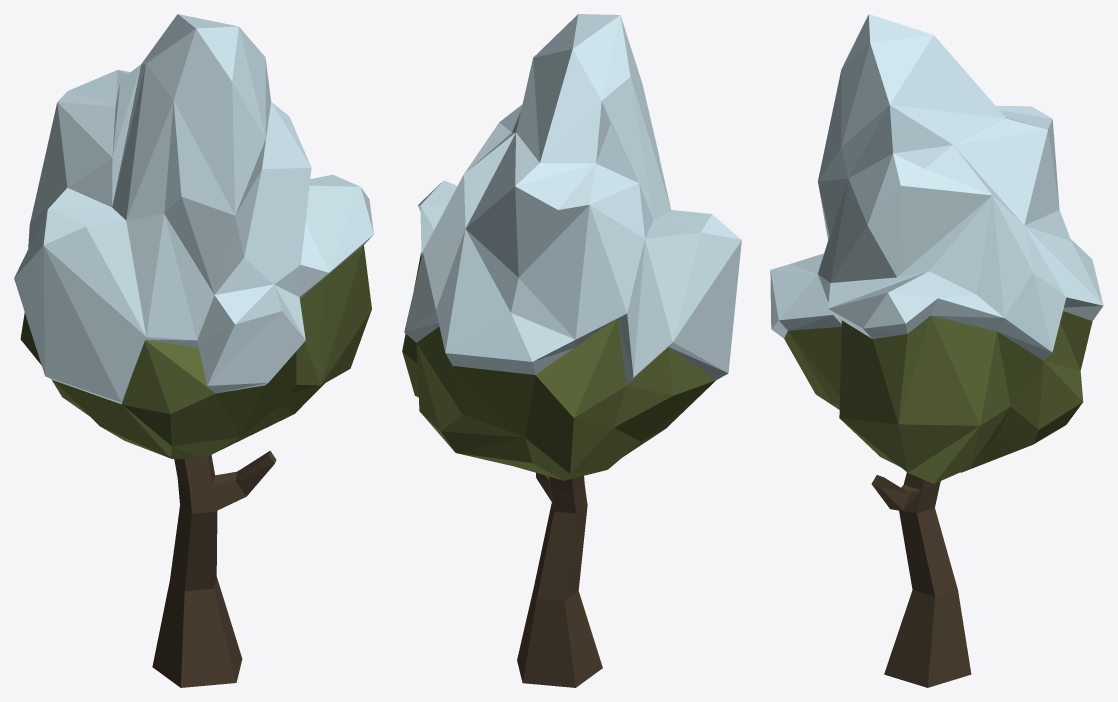
Rendered from SM_Env_Tree_01_Snow.gltf.
The picture shows the model from 3 angles, left to right: view 1: azimuth 30°, elevation 25°; view 2: azimuth 150°, elevation 25°; view 3: azimuth 270°, elevation 25°; orthographic projection. The views are drawn at different scales.
Parts seen in each view (by area): view 1: SM_Env_Tree_01_Snow; view 2: SM_Env_Tree_01_Snow; view 3: SM_Env_Tree_01_Snow.
Boxes of the visible parts, x1=… form: SM_Env_Tree_01_Snow: x1=14, y1=14, x2=373, y2=687; SM_Env_Tree_01_Snow: x1=402, y1=14, x2=741, y2=687; SM_Env_Tree_01_Snow: x1=770, y1=14, x2=1103, y2=687.
Bounding box in the file's own units: 3.3 × 6.37 × 3.01.
1 material, 1 textured.
